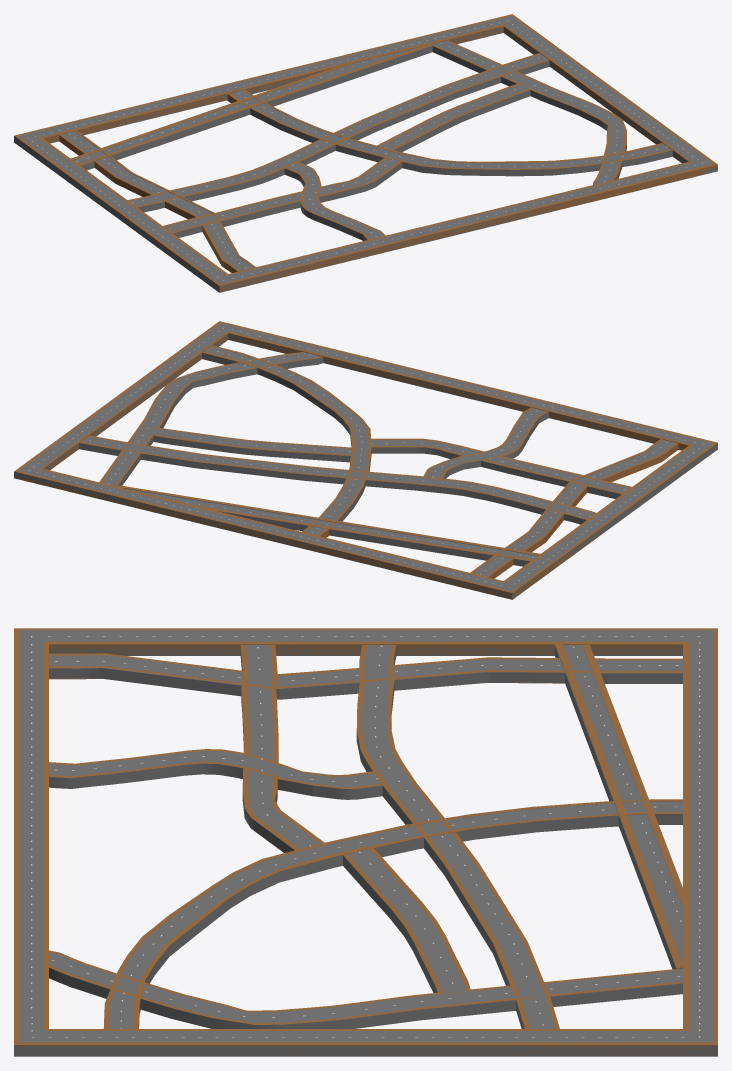
File: road.fbx
3 views of the same model, one above another, from view 1: azimuth 30°, elevation 25°; view 2: azimuth 150°, elevation 25°; view 3: azimuth 270°, elevation 25° (orthographic). The views are drawn at different scales.
Parts seen in each view (by area): view 1: pCube382; view 2: pCube382; view 3: pCube382.
Part boxes in pixels (<box>): pCube382: <box>14,14,717,292</box>; pCube382: <box>14,321,717,599</box>; pCube382: <box>14,628,717,1056</box>.
Bounding box in the file's own units: 124 × 1.79 × 88.82.
